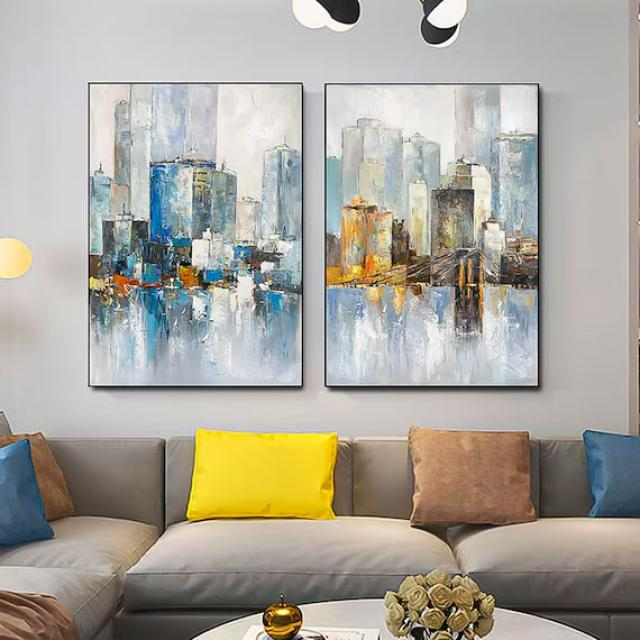painting: (89, 80, 304, 388), (323, 82, 538, 390)
